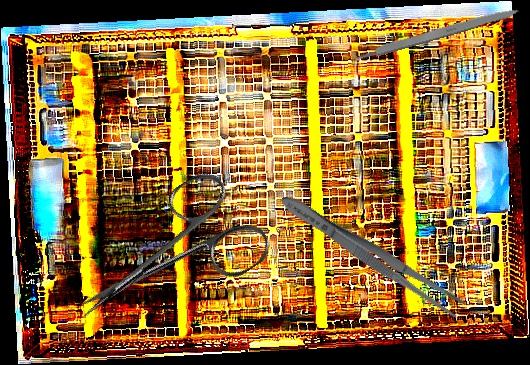Dressing Forceps: (275, 187, 469, 323)
Iris Scissors: (51, 160, 277, 361)
Scalpel Handle: (353, 3, 522, 63)
